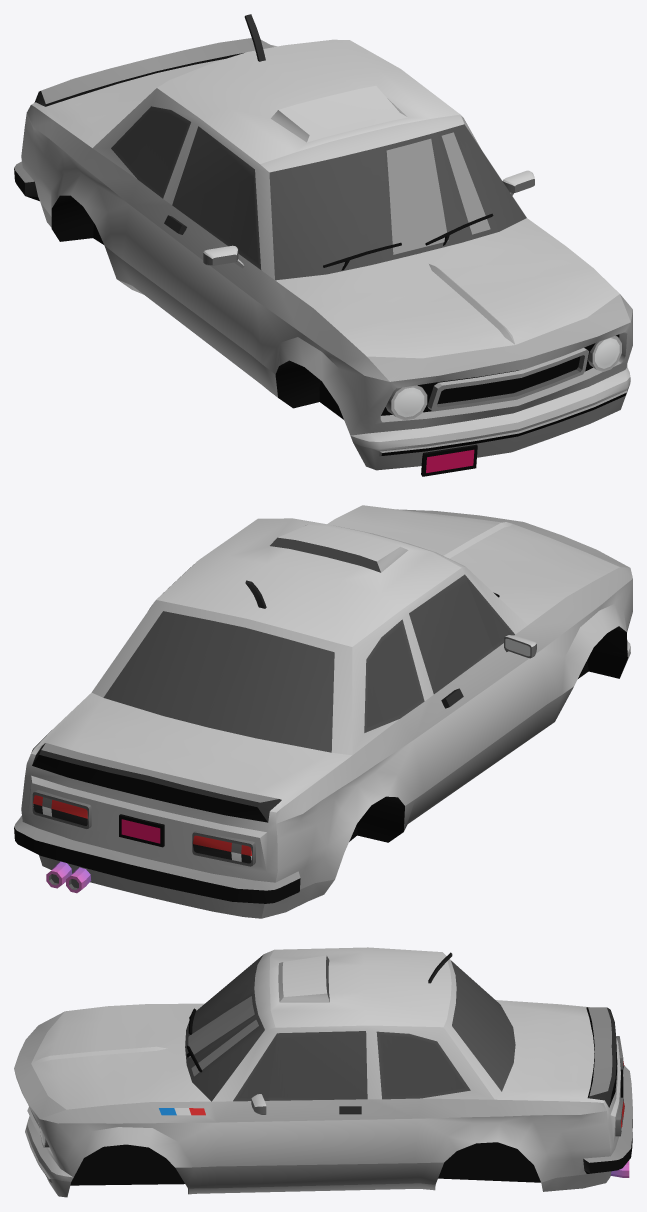
Rendered from Car_10.fbx.
The picture shows the model from 3 angles, top to bottom: view 1: azimuth 30°, elevation 25°; view 2: azimuth 150°, elevation 25°; view 3: azimuth 270°, elevation 25°; orthographic projection. The views are drawn at different scales.
Visible parts, largest first — view 1: Car_10; view 2: Car_10; view 3: Car_10.
Boxes of the visible parts, x1=… form: Car_10: x1=14, y1=14, x2=632, y2=476; Car_10: x1=14, y1=505, x2=632, y2=918; Car_10: x1=14, y1=947, x2=632, y2=1197.
Size of the model in its own units: 172 by 127 by 353.
